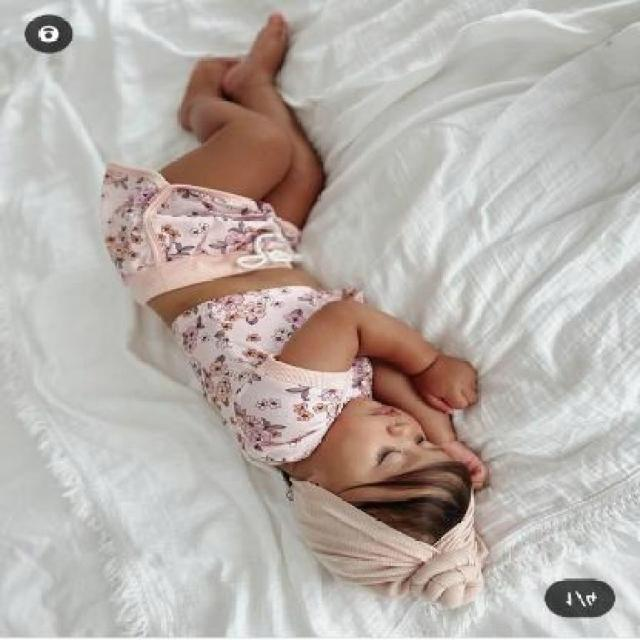child: (103, 19, 489, 610)
